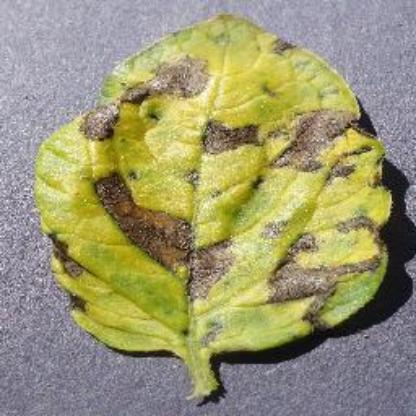Early-Blight: (32, 6, 416, 404)
